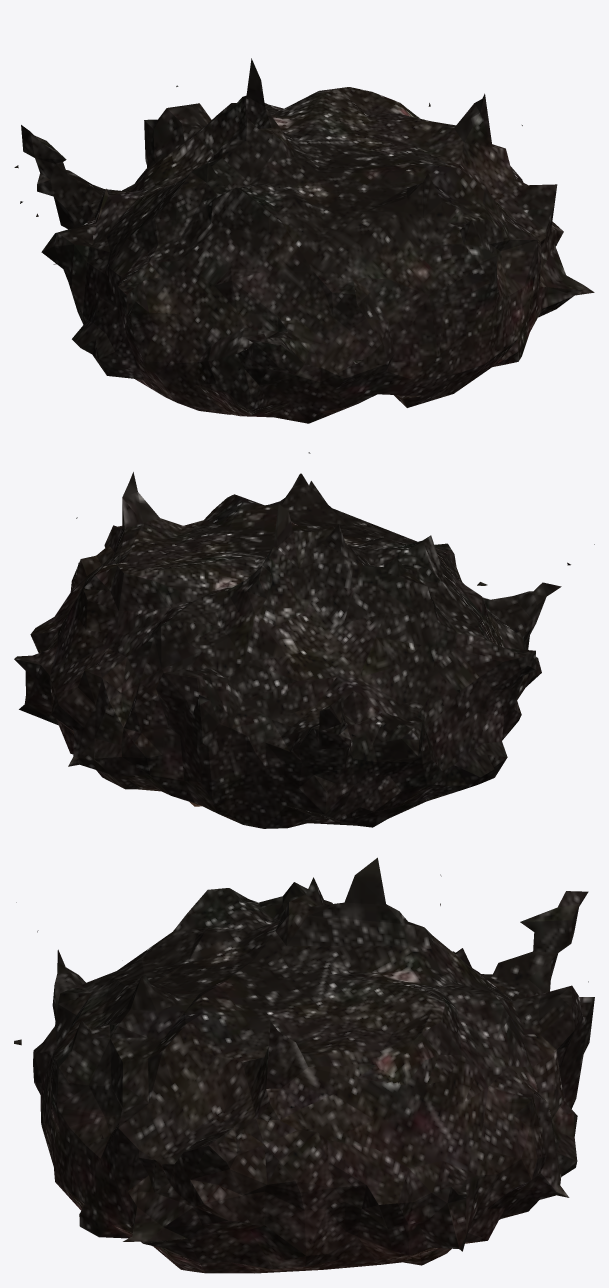
Rendered from urchin.glb.
3 views of the same model, one above another, from view 1: azimuth 30°, elevation 25°; view 2: azimuth 150°, elevation 25°; view 3: azimuth 270°, elevation 25° (orthographic). The views are drawn at different scales.
Visible parts, largest first — view 1: urchin_near; view 2: urchin_near; view 3: urchin_near.
Boxes of the visible parts, <box> form: urchin_near: <box>14,58,594,423</box>; urchin_near: <box>14,452,594,828</box>; urchin_near: <box>14,857,594,1273</box>.
Size of the model in its own units: 0.0414 by 0.0254 by 0.0399.
Materials: 1 (1 with a texture image).
